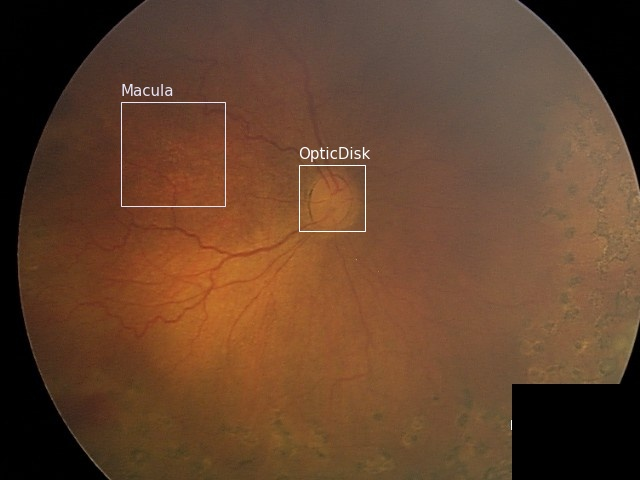Macula: (120, 101, 224, 205)
OpticDisk: (298, 164, 364, 230)
